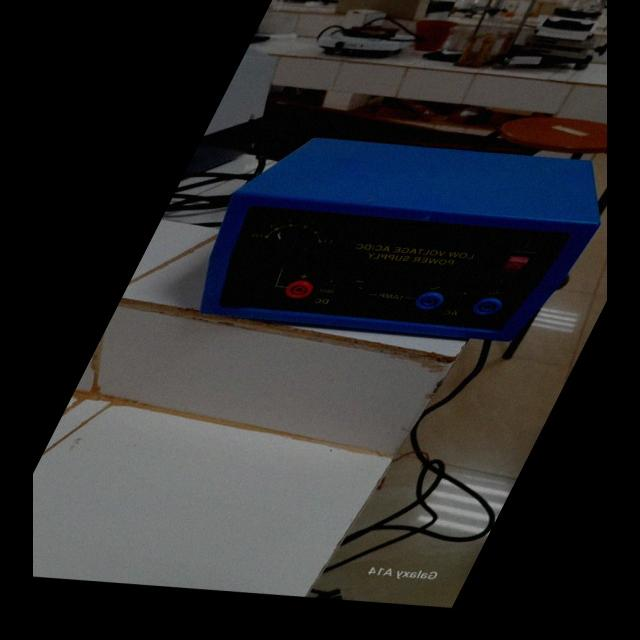Power Supply: (166, 130, 607, 354)
